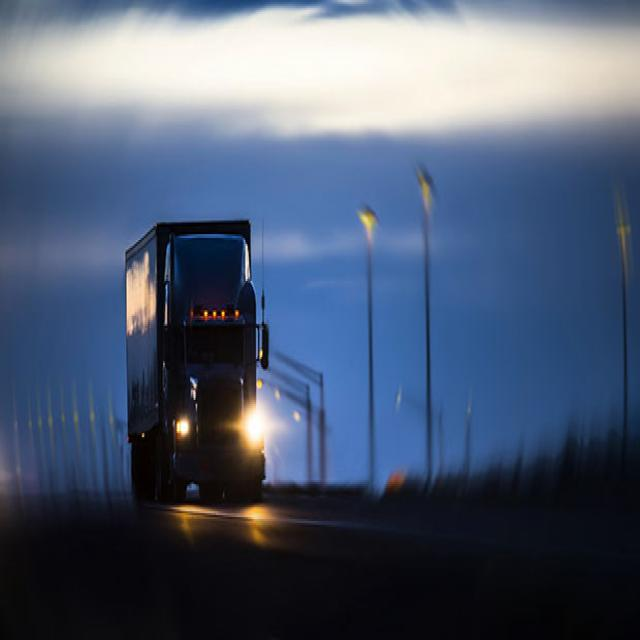Truck: (122, 212, 275, 511)
